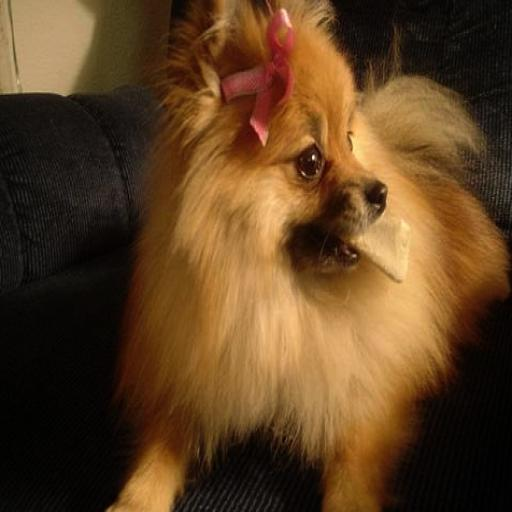dog_face: (155, 0, 404, 289)
